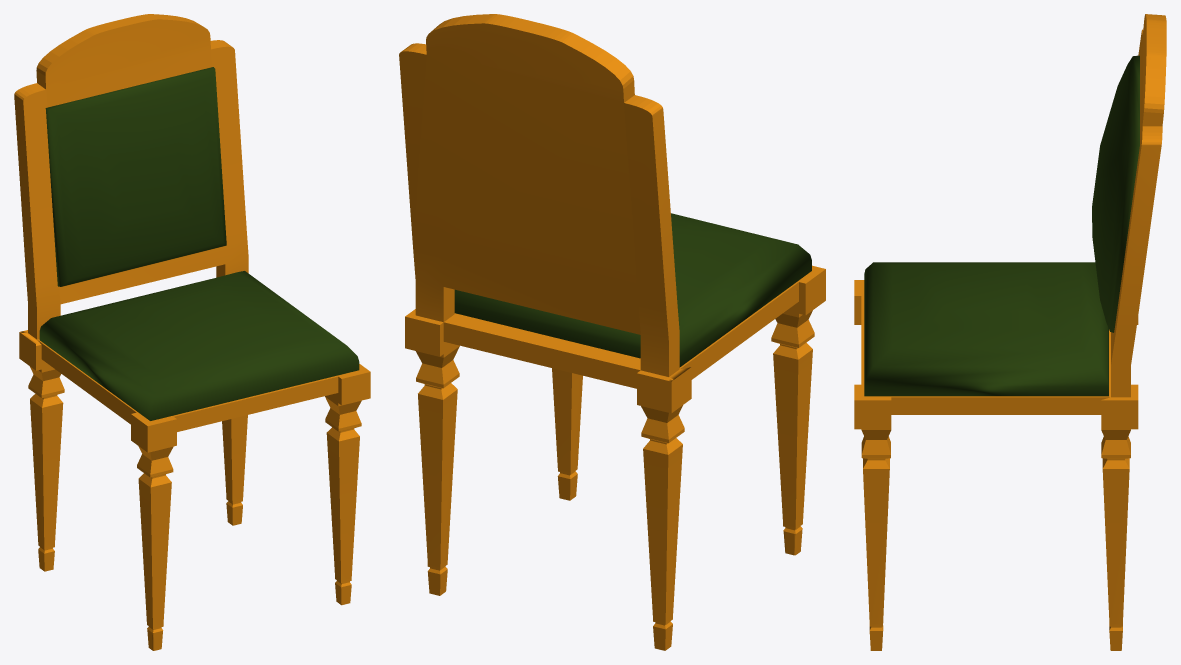
Rendered from M_ChaiseOrVert.fbx.
The picture shows the model from 3 angles, left to right: view 1: azimuth 30°, elevation 25°; view 2: azimuth 150°, elevation 25°; view 3: azimuth 270°, elevation 25°; orthographic projection. The views are drawn at different scales.
Visible parts, largest first — view 1: Cube.002; view 2: Cube.002; view 3: Cube.002.
Boxes of the visible parts, left/top/right/bottom form: Cube.002: left=14, top=14, right=370, bottom=650; Cube.002: left=399, top=14, right=825, bottom=650; Cube.002: left=854, top=14, right=1166, bottom=650.
Size of the model in its own units: 316 by 691 by 347.
